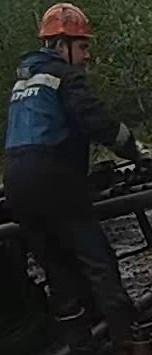gloves: (106, 118, 152, 169)
helmet: (36, 2, 96, 40)
vest: (2, 49, 94, 220)
